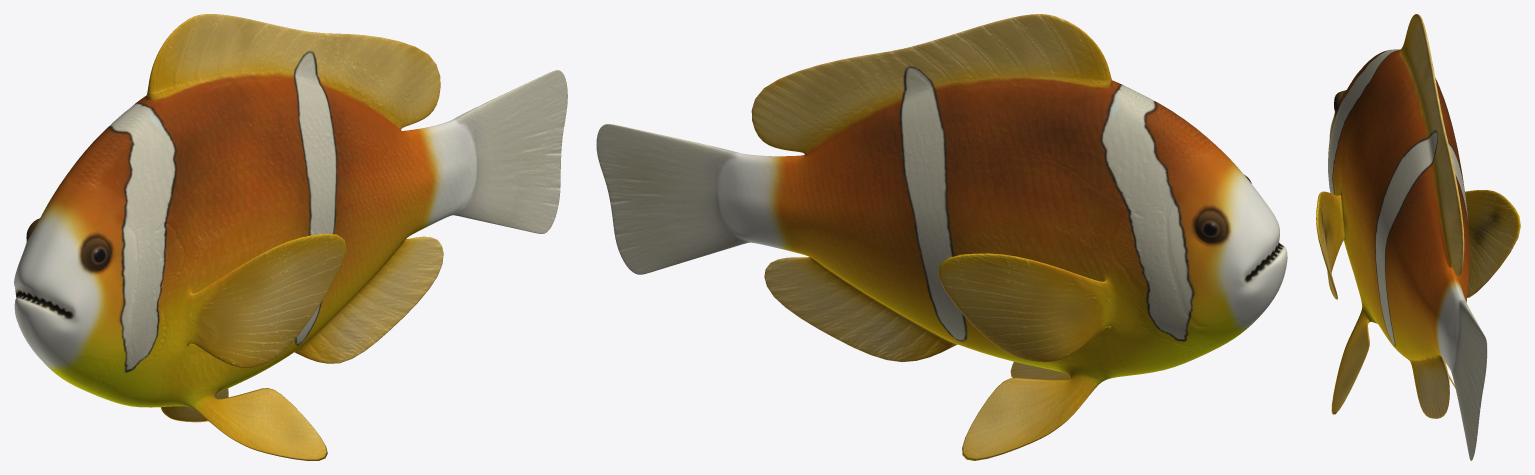
Rendered from fishh.glb.
The picture shows the model from 3 angles, left to right: view 1: azimuth 30°, elevation 25°; view 2: azimuth 150°, elevation 25°; view 3: azimuth 270°, elevation 25°; orthographic projection. The views are drawn at different scales.
Parts seen in each view (by area): view 1: 12265_Fish_v1_L2; view 2: 12265_Fish_v1_L2; view 3: 12265_Fish_v1_L2.
Part boxes in pixels (x1=…): 12265_Fish_v1_L2: x1=14, y1=14, x2=567, y2=460; 12265_Fish_v1_L2: x1=596, y1=14, x2=1287, y2=460; 12265_Fish_v1_L2: x1=1316, y1=14, x2=1520, y2=460.
Size of the model in its own units: 1.24 by 0.8406 by 0.4178.
Materials: 1 (1 with a texture image).
